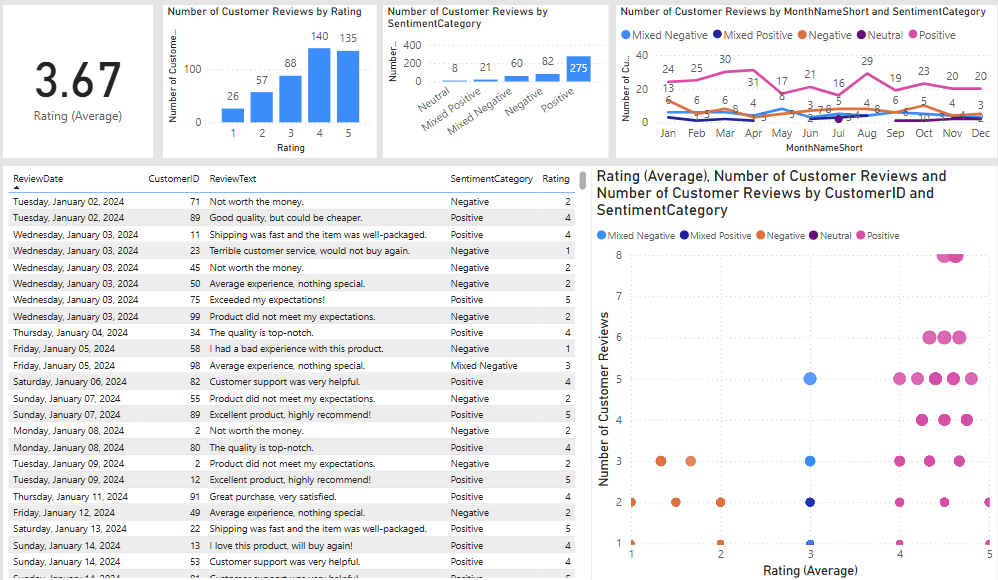

Layout of this report page (visuals, bound fields, positions):
{"tool":"powerbi","page":{"name":"Customer Review Details","canvas":[1280,720],"ordinal":3},"visuals":[{"type":"textbox","box":[10,0,1256.4,75.5],"z":0},{"type":"slicer","fields":{"Values":["dim_products.ProductName"]},"box":[0,272.7,163.6,447.3],"z":1000},{"type":"slicer","fields":{"Values":["Calendar.Year"]},"box":[285.5,4.5,280,64.5],"z":2000},{"type":"slicer","fields":{"Values":["Calendar.MonthNameShort"]},"box":[556.4,4.5,693.6,64.5],"z":3000},{"type":"card","fields":{"Values":["_Calculations.Rating (Average)"]},"box":[172.7,84.5,164.5,168.2],"z":4000},{"type":"clusteredColumnChart","fields":{"Y":["_Calculations.Number of Customer Reviews"],"Category":["fact_customer_reviews_with_sentiment.Rating"]},"box":[349.1,84.5,234.5,168.2],"z":5000},{"type":"clusteredColumnChart","fields":{"Y":["_Calculations.Number of Customer Reviews"],"Category":["fact_customer_reviews_with_sentiment.SentimentCategory"]},"box":[590,84.5,248.2,168.2],"z":6000},{"type":"lineChart","fields":{"Category":["Calendar.MonthNameShort"],"Y":["_Calculations.Number of Customer Reviews"],"Series":["fact_customer_reviews_with_sentiment.SentimentCategory"]},"box":[847.3,84.5,419.1,168.2],"z":7000},{"type":"tableEx","fields":{"Values":["fact_customer_reviews_with_sentiment.ReviewDate","fact_customer_reviews_with_sentiment.CustomerID","fact_customer_reviews_with_sentiment.ReviewText","fact_customer_reviews_with_sentiment.SentimentCategory","fact_customer_reviews_with_sentiment.Rating"]},"box":[172.7,261.8,647.3,458.2],"z":8000},{"type":"scatterChart","fields":{"X":["_Calculations.Rating (Average)"],"Y":["_Calculations.Number of Customer Reviews"],"Category":["fact_customer_reviews_with_sentiment.CustomerID"],"Series":["fact_customer_reviews_with_sentiment.SentimentCategory"],"Size":["_Calculations.Number of Customer Reviews"]},"box":[820,261.8,446.4,458.2],"z":9000},{"type":"slicer","fields":{"Values":["fact_customer_reviews_with_sentiment.SentimentCategory"]},"box":[0,84.5,163.6,178.2],"z":10000}]}

Visuals, with their boxes on the page's 1280x720 design canvas (x1, y1, x2, y2). These are canvas units, not pixel positions in the 998x580 screenshot, which may show the page scaled, cropped or inside an application window:
textbox: {"left": 10, "top": 0, "right": 1266, "bottom": 76}
slicer - dim_products.ProductName: {"left": 0, "top": 273, "right": 164, "bottom": 720}
slicer - Calendar.Year: {"left": 286, "top": 4, "right": 566, "bottom": 69}
slicer - Calendar.MonthNameShort: {"left": 556, "top": 4, "right": 1250, "bottom": 69}
card - _Calculations.Rating (Average): {"left": 173, "top": 84, "right": 337, "bottom": 253}
clusteredColumnChart - _Calculations.Number of Customer Reviews x fact_customer_reviews_with_sentiment.Rating: {"left": 349, "top": 84, "right": 584, "bottom": 253}
clusteredColumnChart - _Calculations.Number of Customer Reviews x fact_customer_reviews_with_sentiment.SentimentCategory: {"left": 590, "top": 84, "right": 838, "bottom": 253}
lineChart - Calendar.MonthNameShort x _Calculations.Number of Customer Reviews: {"left": 847, "top": 84, "right": 1266, "bottom": 253}
tableEx - fact_customer_reviews_with_sentiment.ReviewDate x fact_customer_reviews_with_sentiment.CustomerID: {"left": 173, "top": 262, "right": 820, "bottom": 720}
scatterChart - _Calculations.Rating (Average) x _Calculations.Number of Customer Reviews: {"left": 820, "top": 262, "right": 1266, "bottom": 720}
slicer - fact_customer_reviews_with_sentiment.SentimentCategory: {"left": 0, "top": 84, "right": 164, "bottom": 263}
